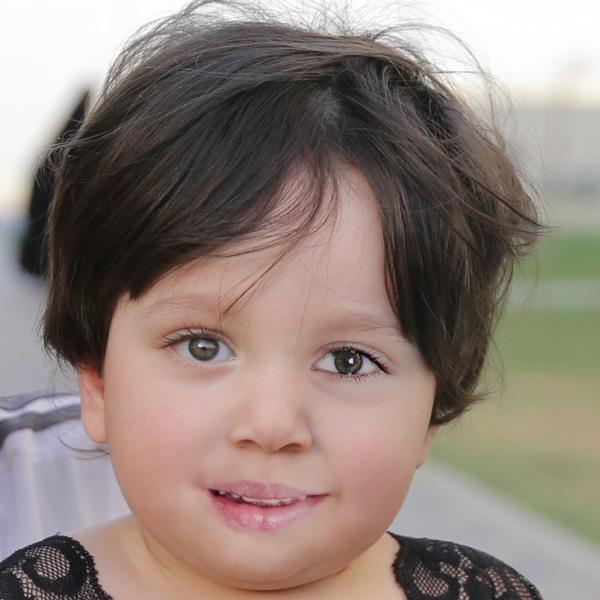Eyes: (148, 315, 247, 376), (303, 334, 396, 391)
